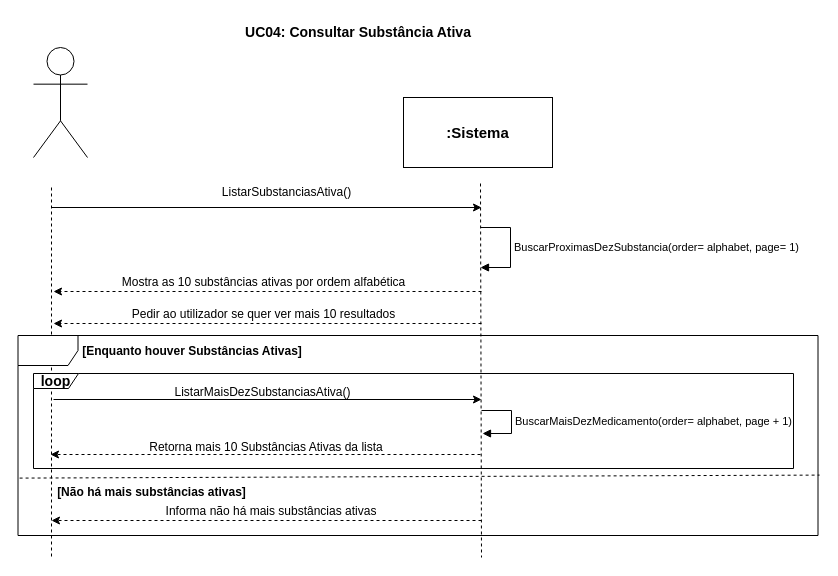
The diagram is 838 pixels wide and 576 high, and some of its shapes have lost their labels. The shapes that lost their labels are listed below. From the top down, each one's box as (x1, y1, x2, y2) in pixels, then its label:
(32, 46, 88, 158): :Administrador
(17, 334, 818, 536): alt
